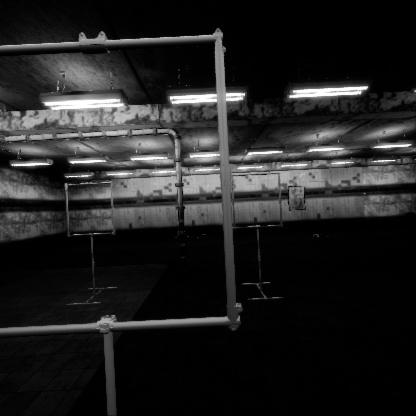gate: (230, 186, 287, 244), (65, 178, 119, 234)
